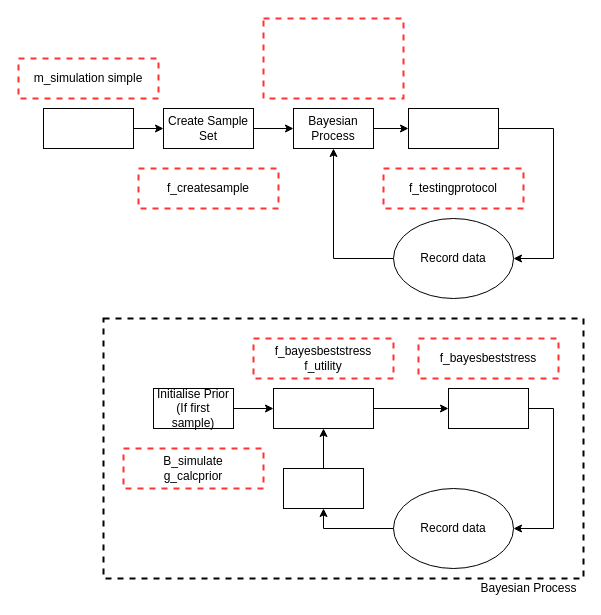
This 601x615 diagram has some shape labels left out. The shapes that lost their labels are listed below. From the top down, each one's centre as x and y in pixels, then its label:
the point at 333,58: f_testingprotocol B_simulate f_bayesbeststress f_utility g_calcprior
the point at 88,128: Set input Parameters
the point at 453,128: Test Sample According to protocool
the point at 323,408: Evaluate utility function for all possible stresses
the point at 488,408: Find maximum of utility function
the point at 323,488: Update Prior
